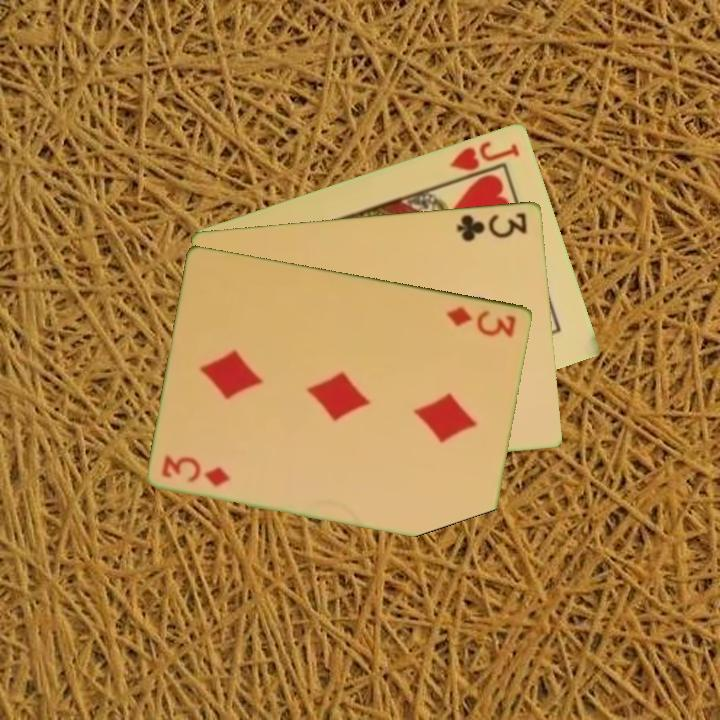3c: (453, 208, 530, 244)
3d: (443, 302, 519, 340), (159, 452, 234, 489)
Jh: (446, 137, 523, 173)
